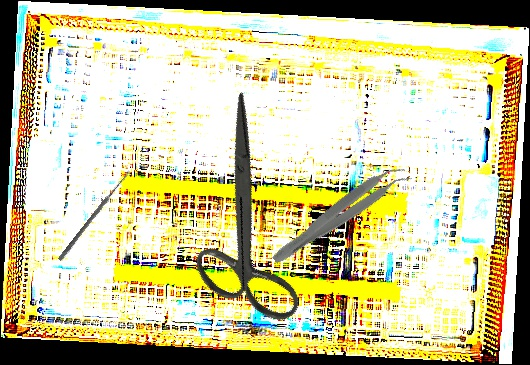Iris Scissors: (126, 91, 366, 347)
Surgical Spoon: (57, 169, 132, 262)
Tissue Forceps: (267, 157, 414, 275)
